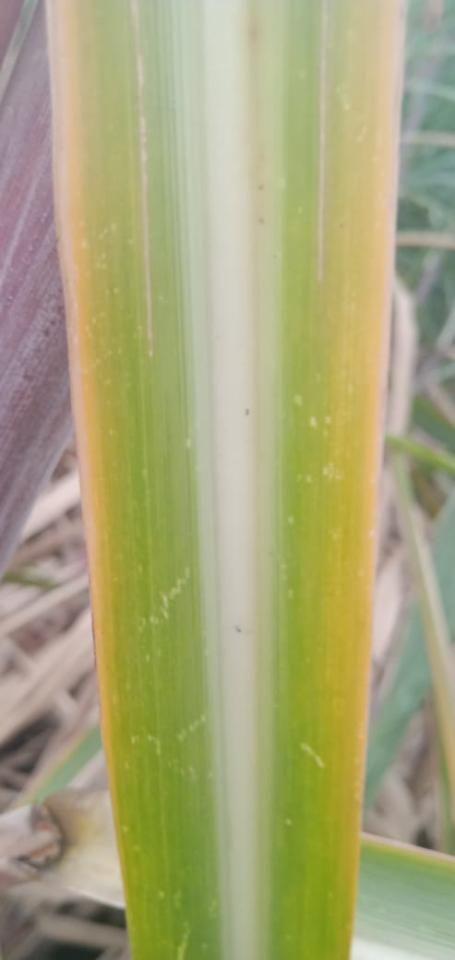Yellow: (317, 0, 402, 959), (47, 0, 132, 910)
